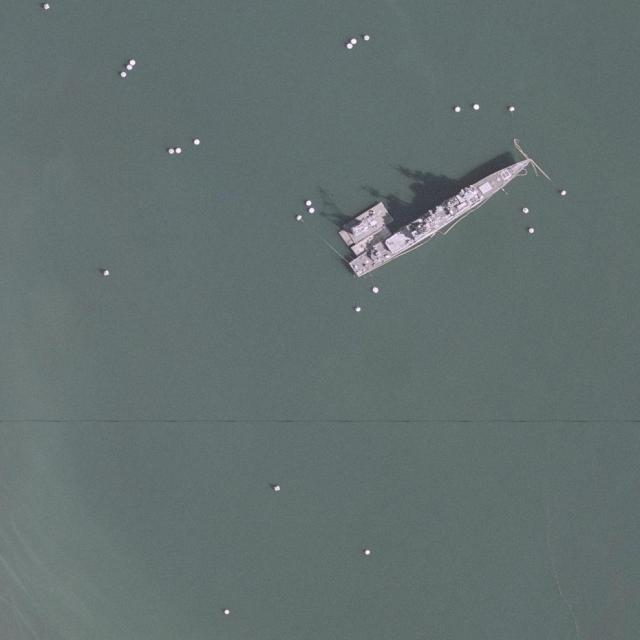Cruiser: (348, 153, 534, 278)
